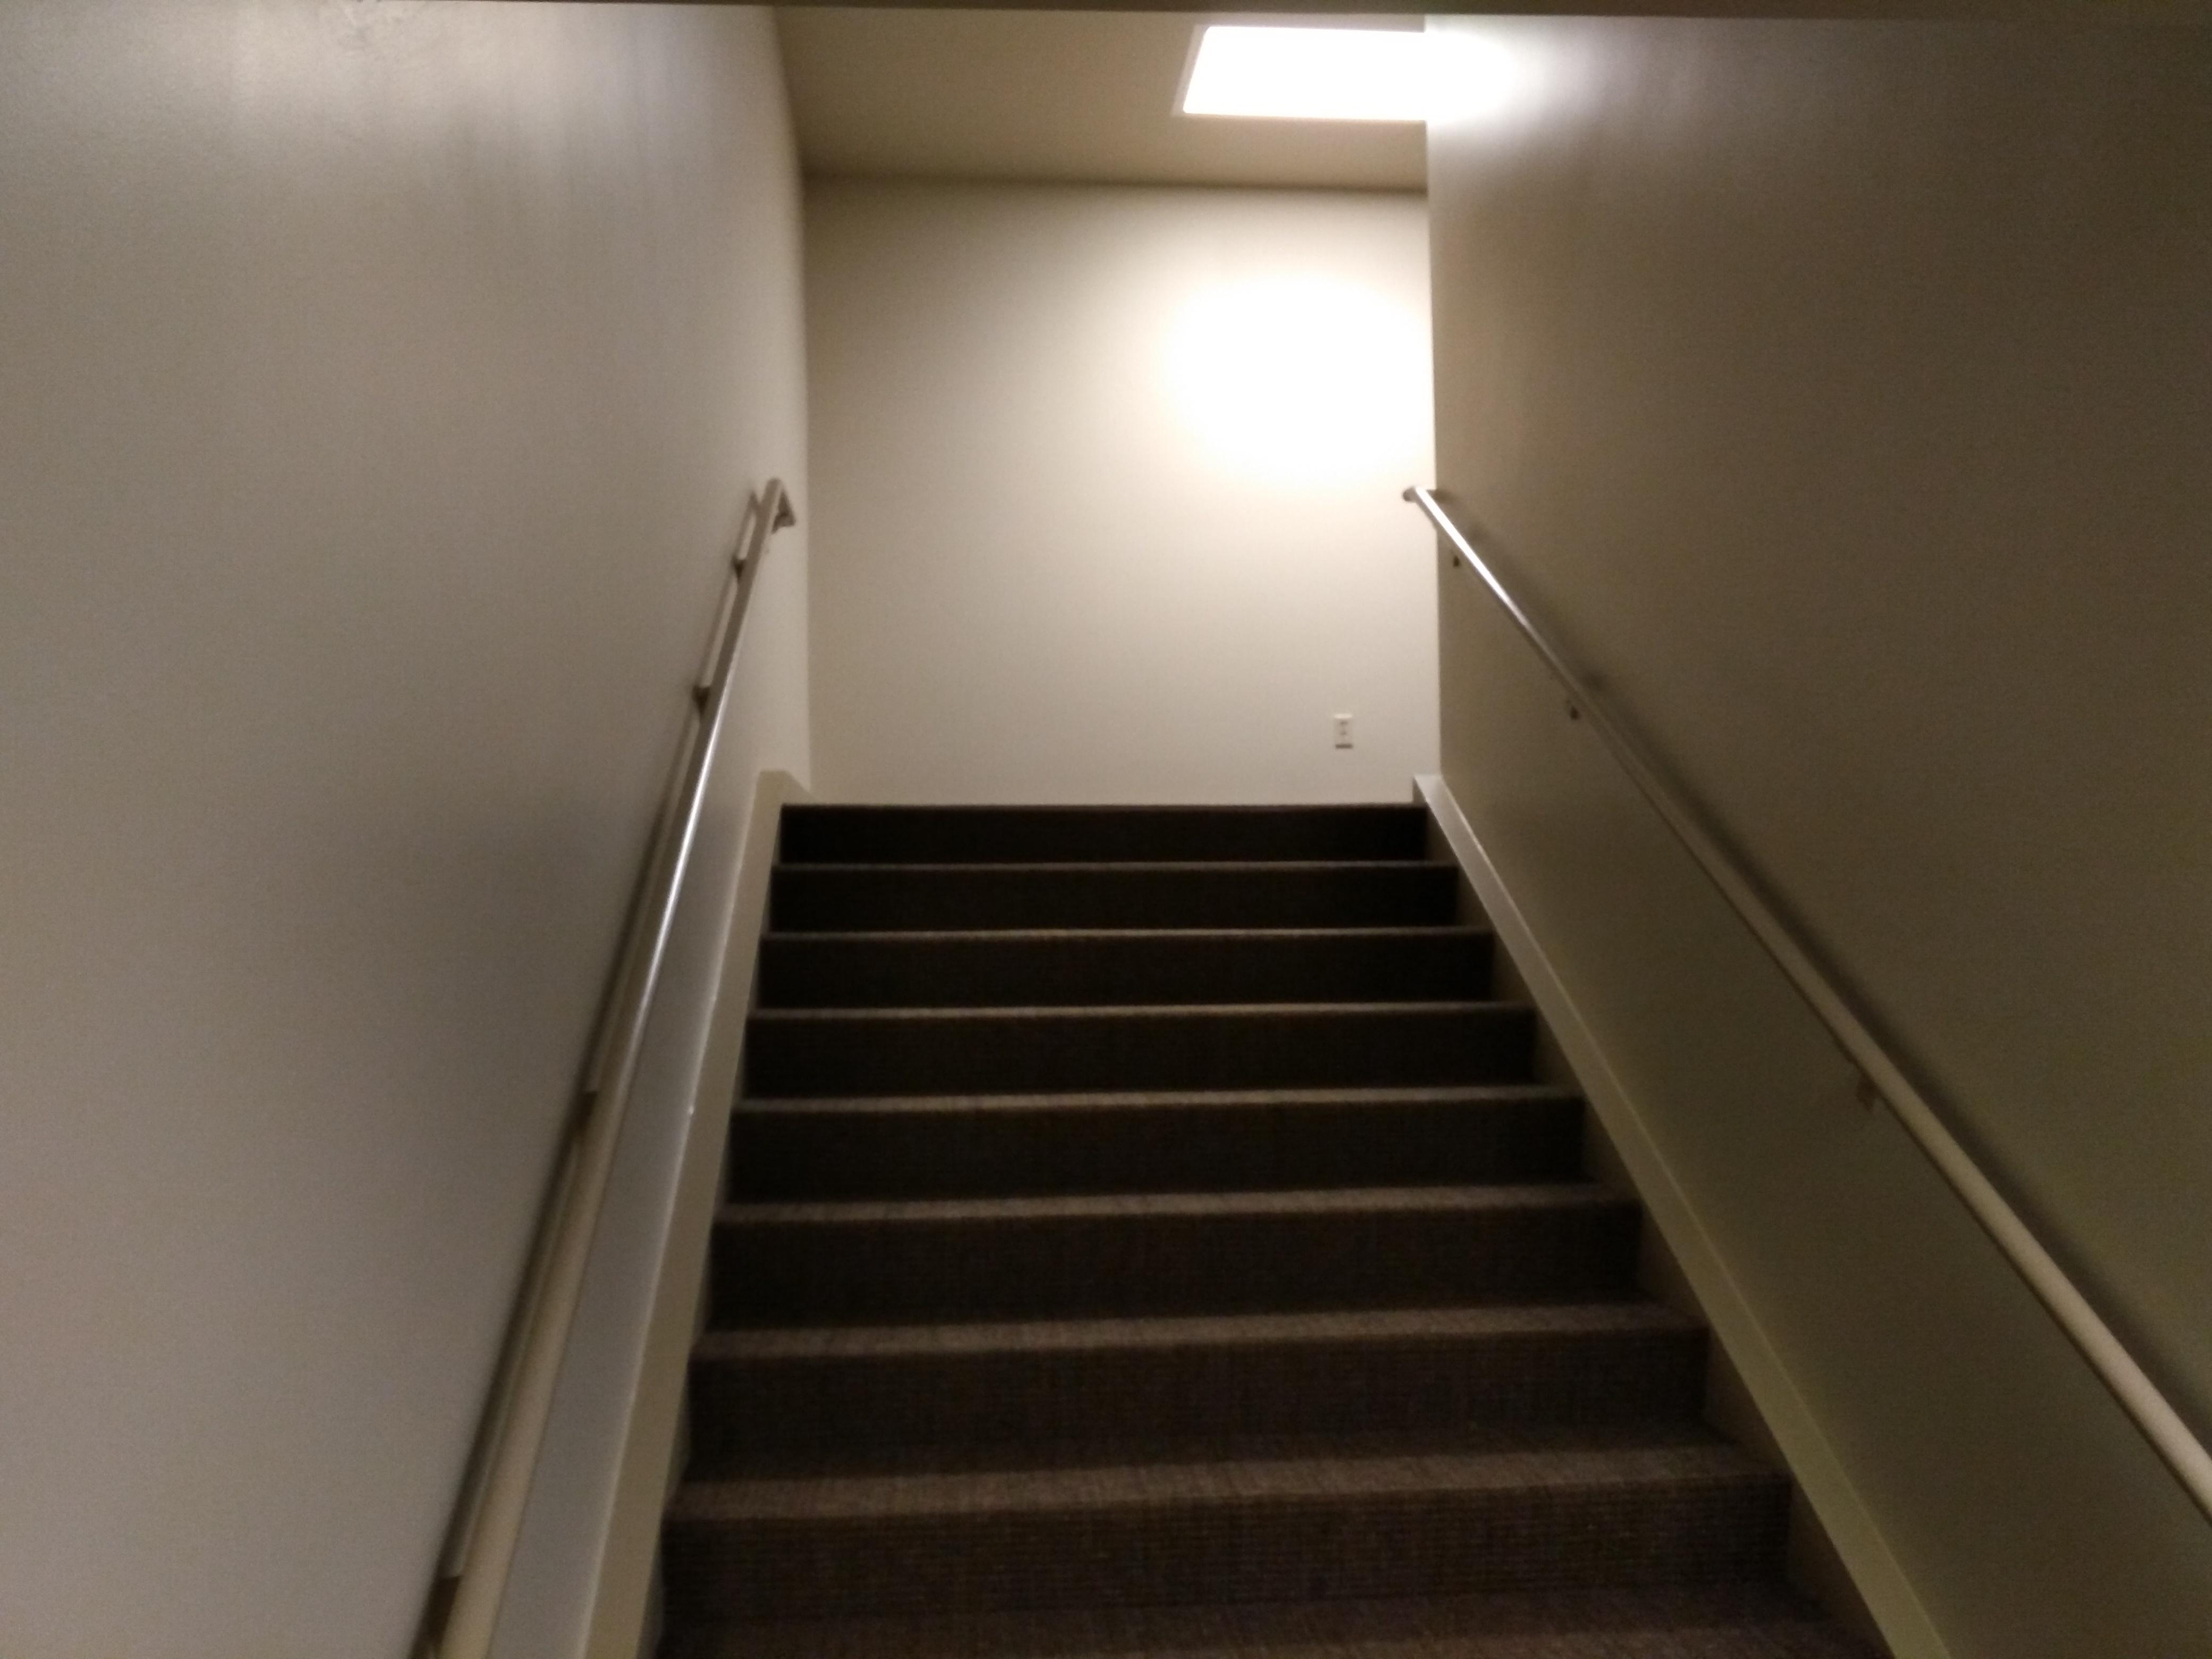stairs_up: (716, 765, 1761, 1629)
